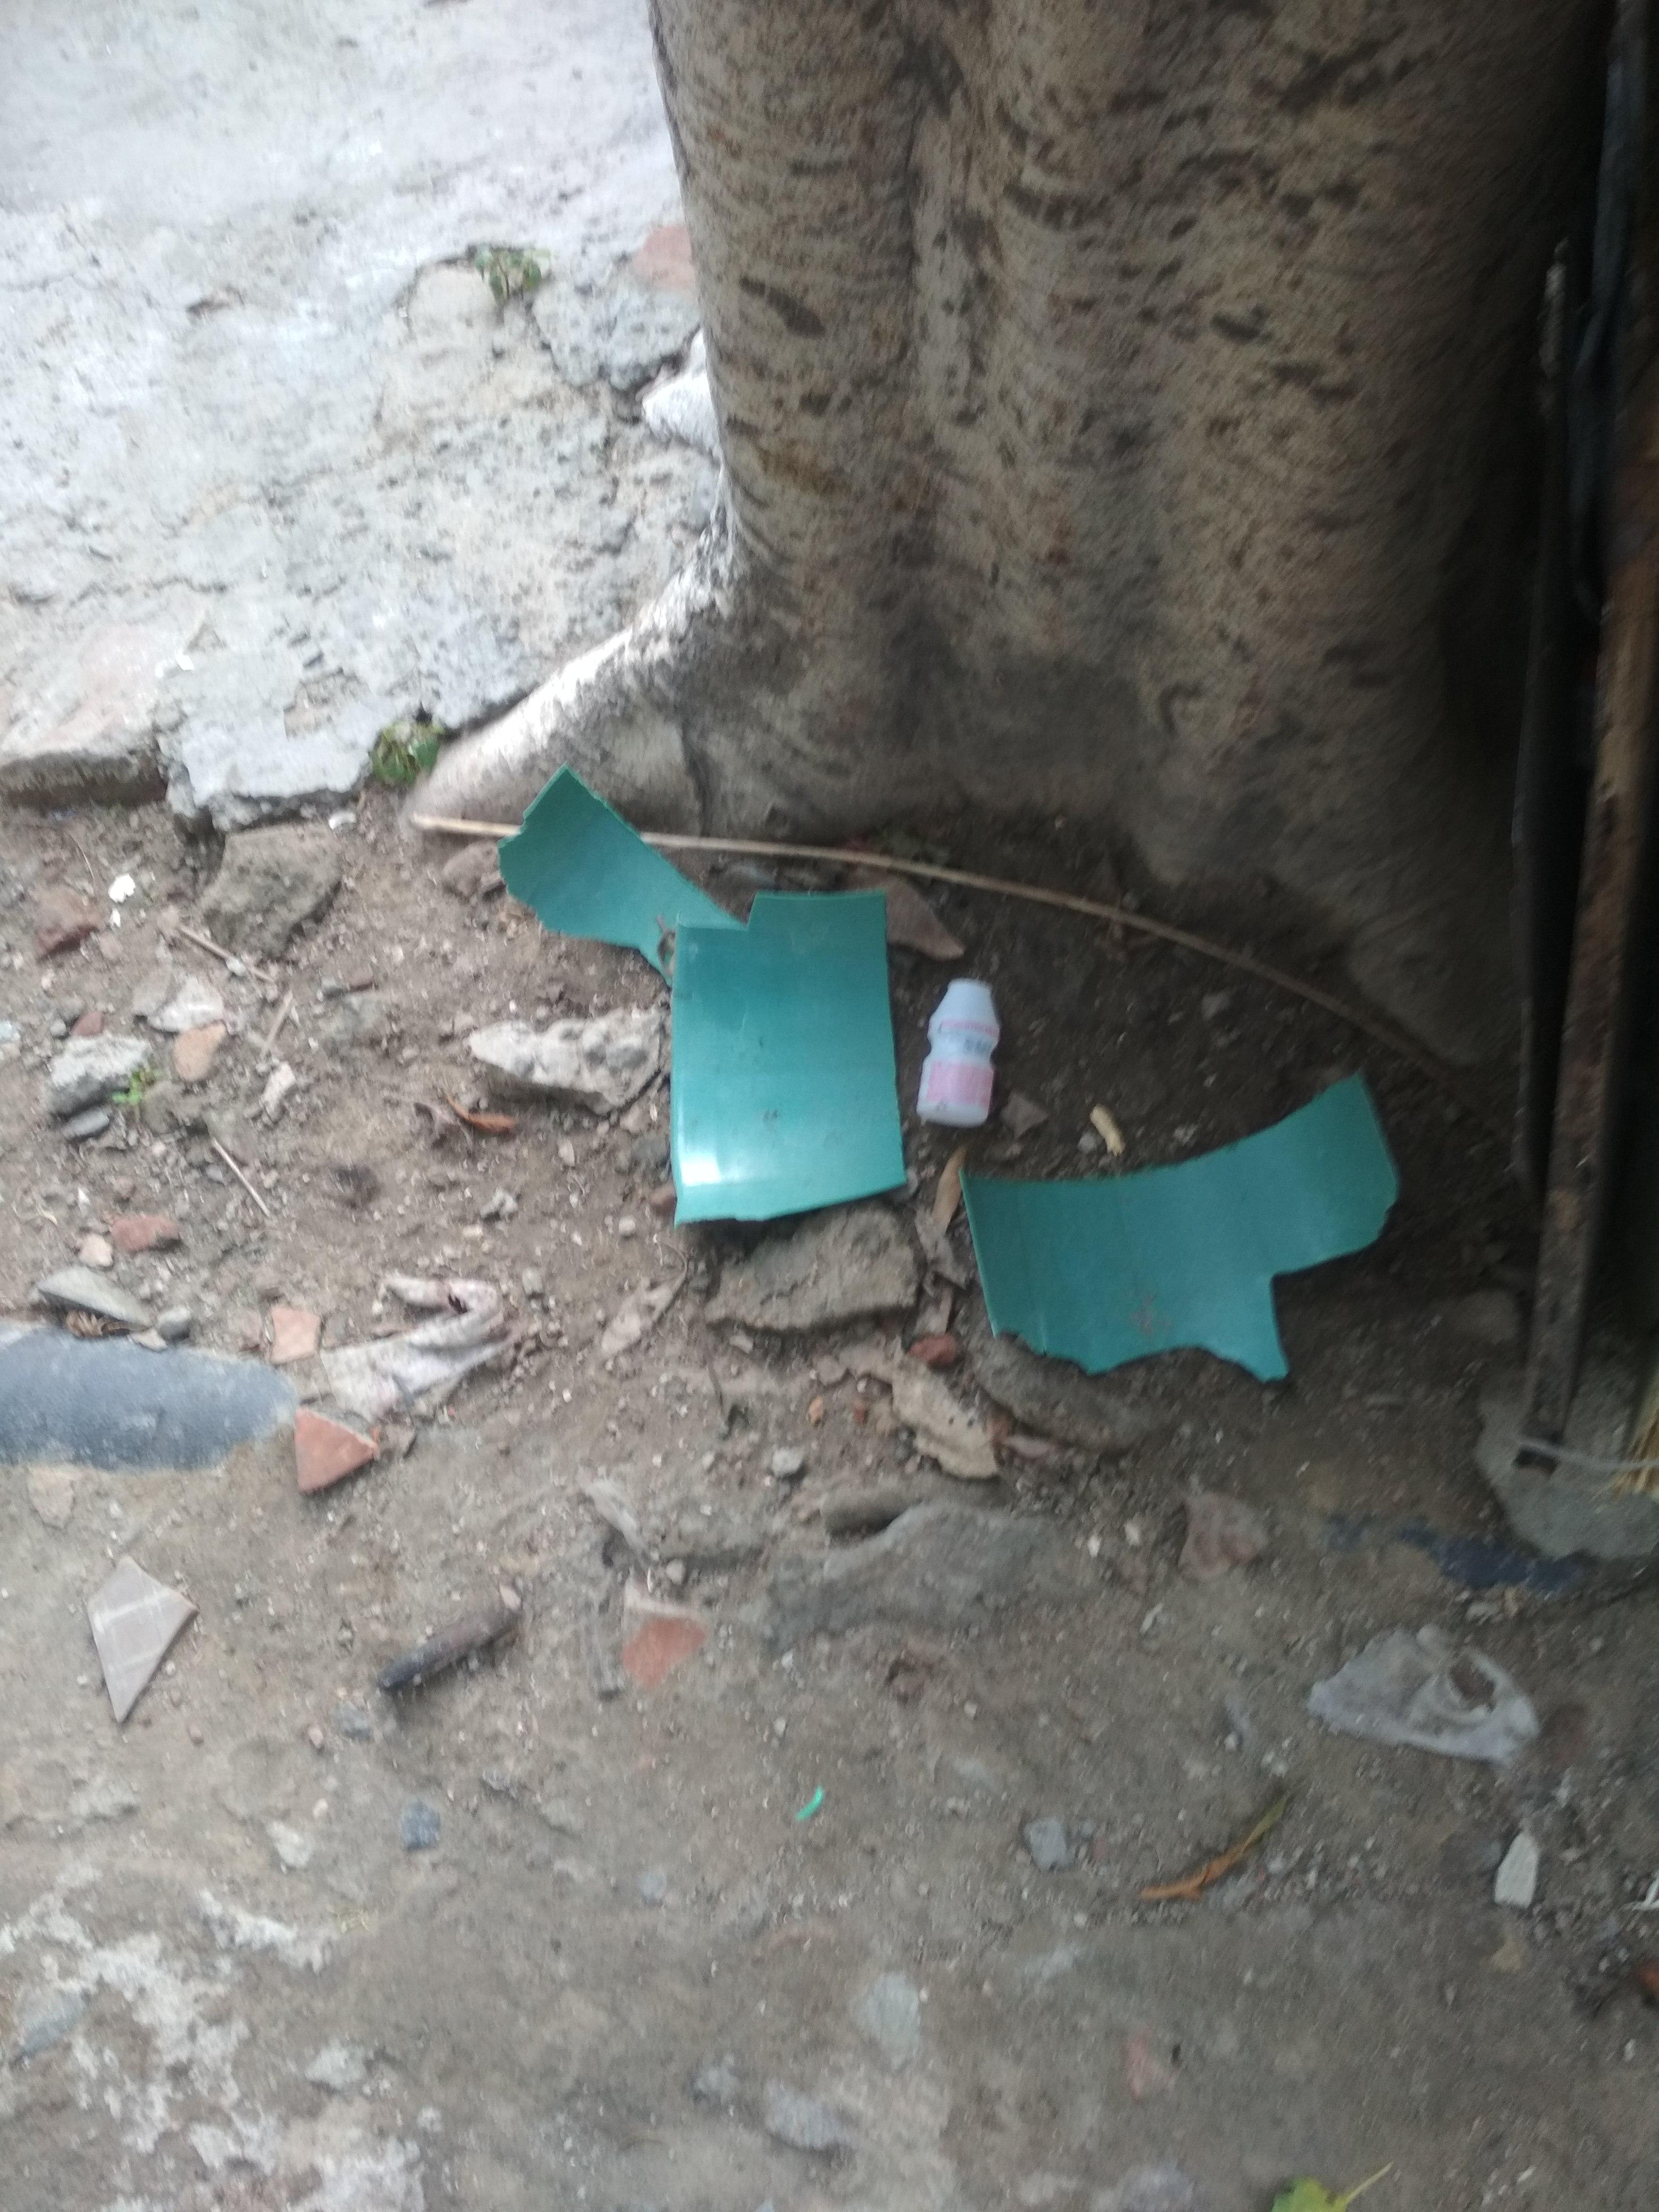organic: (458, 749, 1448, 1423)
